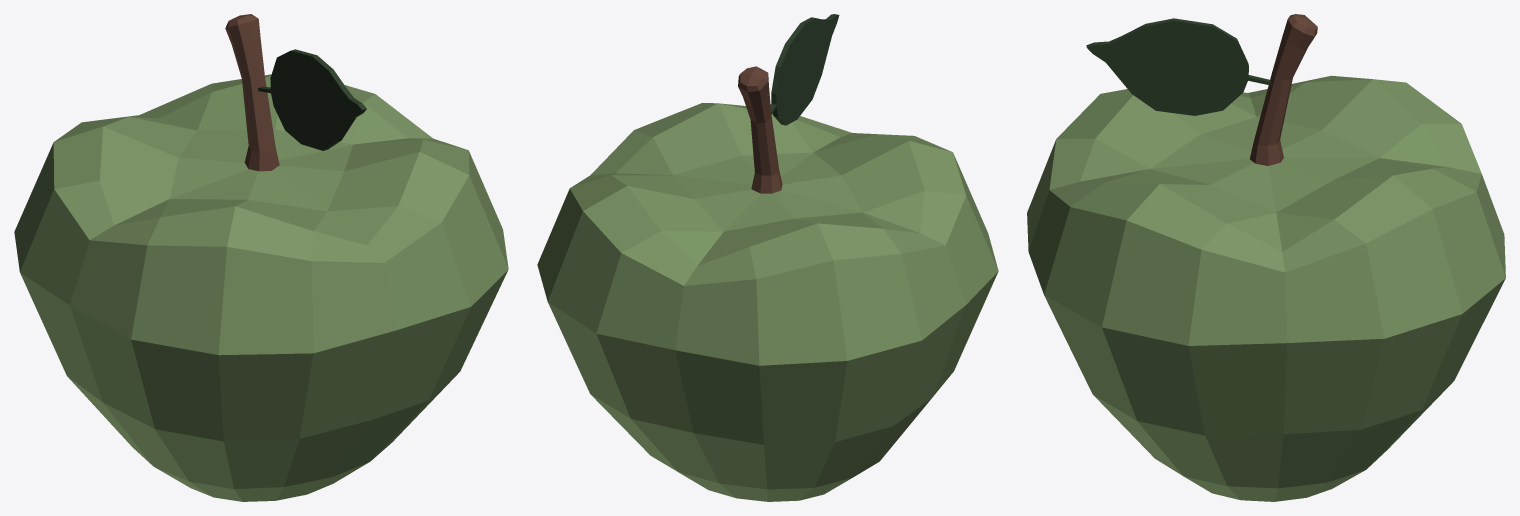
File: Apple Green.glb
The picture shows the model from 3 angles, left to right: view 1: azimuth 30°, elevation 25°; view 2: azimuth 150°, elevation 25°; view 3: azimuth 270°, elevation 25°; orthographic projection. The views are drawn at different scales.
Visible parts, largest first — view 1: Apple_Green.001; view 2: Apple_Green.001; view 3: Apple_Green.001.
Part boxes in pixels (x1,y1,x2,y2): Apple_Green.001: [14, 14, 508, 501]; Apple_Green.001: [537, 14, 998, 501]; Apple_Green.001: [1027, 14, 1505, 501].
Size of the model in its own units: 0.9219 by 0.9802 by 0.9259.
